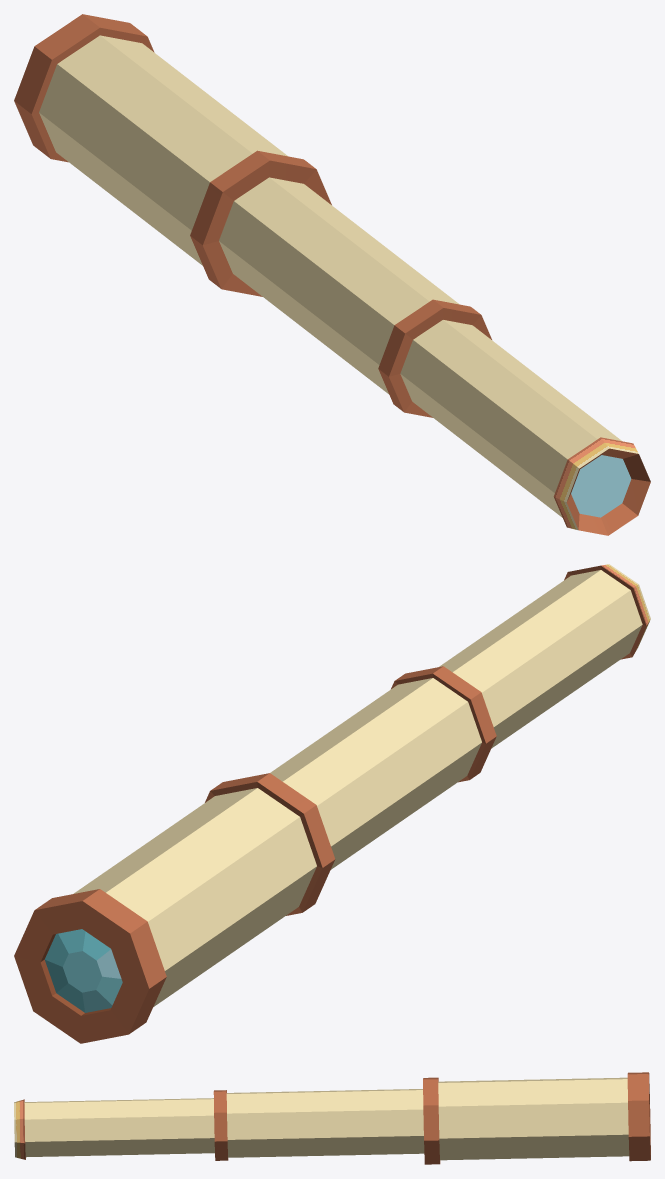
The model's file is Binoculars_01.glb.
3 views of the same model, one above another, from view 1: azimuth 30°, elevation 25°; view 2: azimuth 150°, elevation 25°; view 3: azimuth 270°, elevation 25° (orthographic). The views are drawn at different scales.
Parts seen in each view (by area): view 1: Binoculars_01; view 2: Binoculars_01; view 3: Binoculars_01.
Boxes of the visible parts, x1=… form: Binoculars_01: x1=14, y1=14, x2=650, y2=535; Binoculars_01: x1=14, y1=564, x2=650, y2=1043; Binoculars_01: x1=14, y1=1072, x2=650, y2=1164.
Size of what is drawn, in the model's own units: 0.1129 by 0.118 by 0.764.
Materials: 1 (1 with a texture image).
